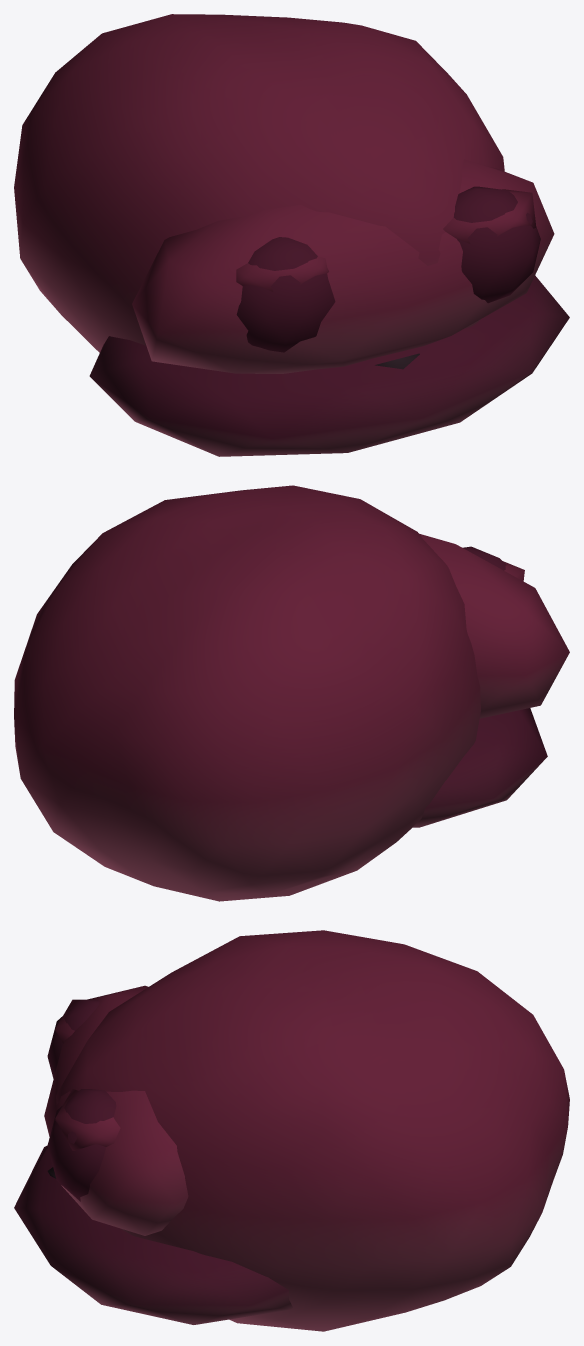
File: Kraken_Head.glb
The picture shows the model from 3 angles, top to bottom: view 1: azimuth 30°, elevation 25°; view 2: azimuth 150°, elevation 25°; view 3: azimuth 270°, elevation 25°; orthographic projection. The views are drawn at different scales.
Visible parts, largest first — view 1: Kraken_Head; view 2: Kraken_Head; view 3: Kraken_Head.
Part boxes in pixels (x1,y1,x2,y2): Kraken_Head: (14, 14, 569, 456); Kraken_Head: (14, 485, 569, 901); Kraken_Head: (14, 930, 569, 1331).
Bounding box in the file's own units: 11.3 × 9.25 × 13.68.
